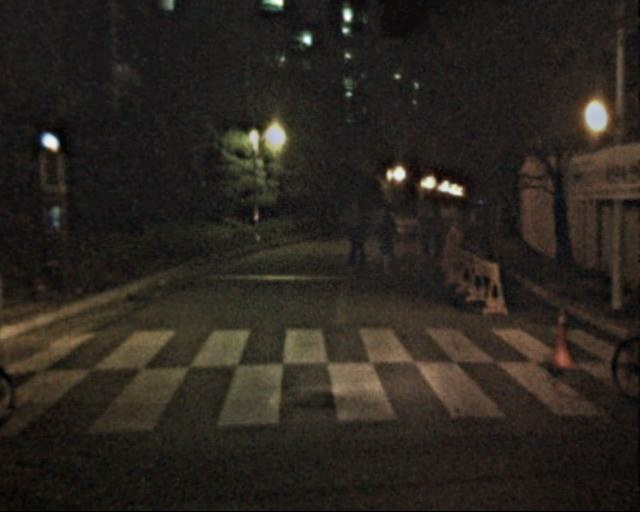person: (338, 201, 368, 275), (365, 200, 395, 274), (414, 202, 436, 255), (426, 203, 447, 253)
